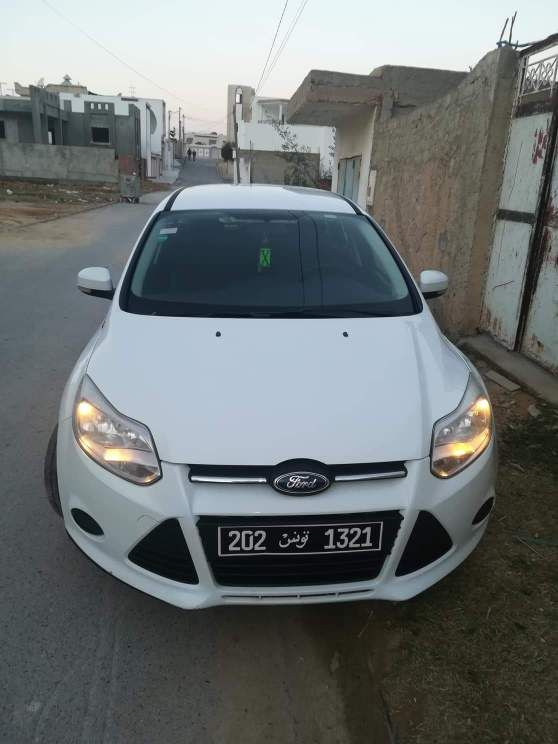LP: (214, 522, 388, 555)
